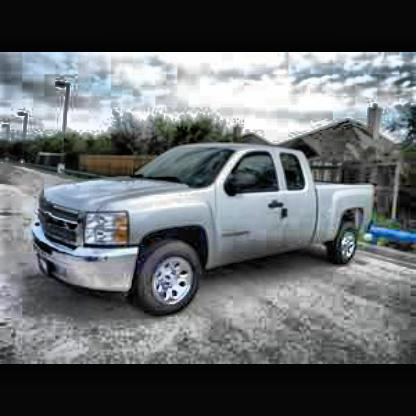Chevrolet Silverado 1500 Extended Cab 2012: (32, 142, 380, 323)
